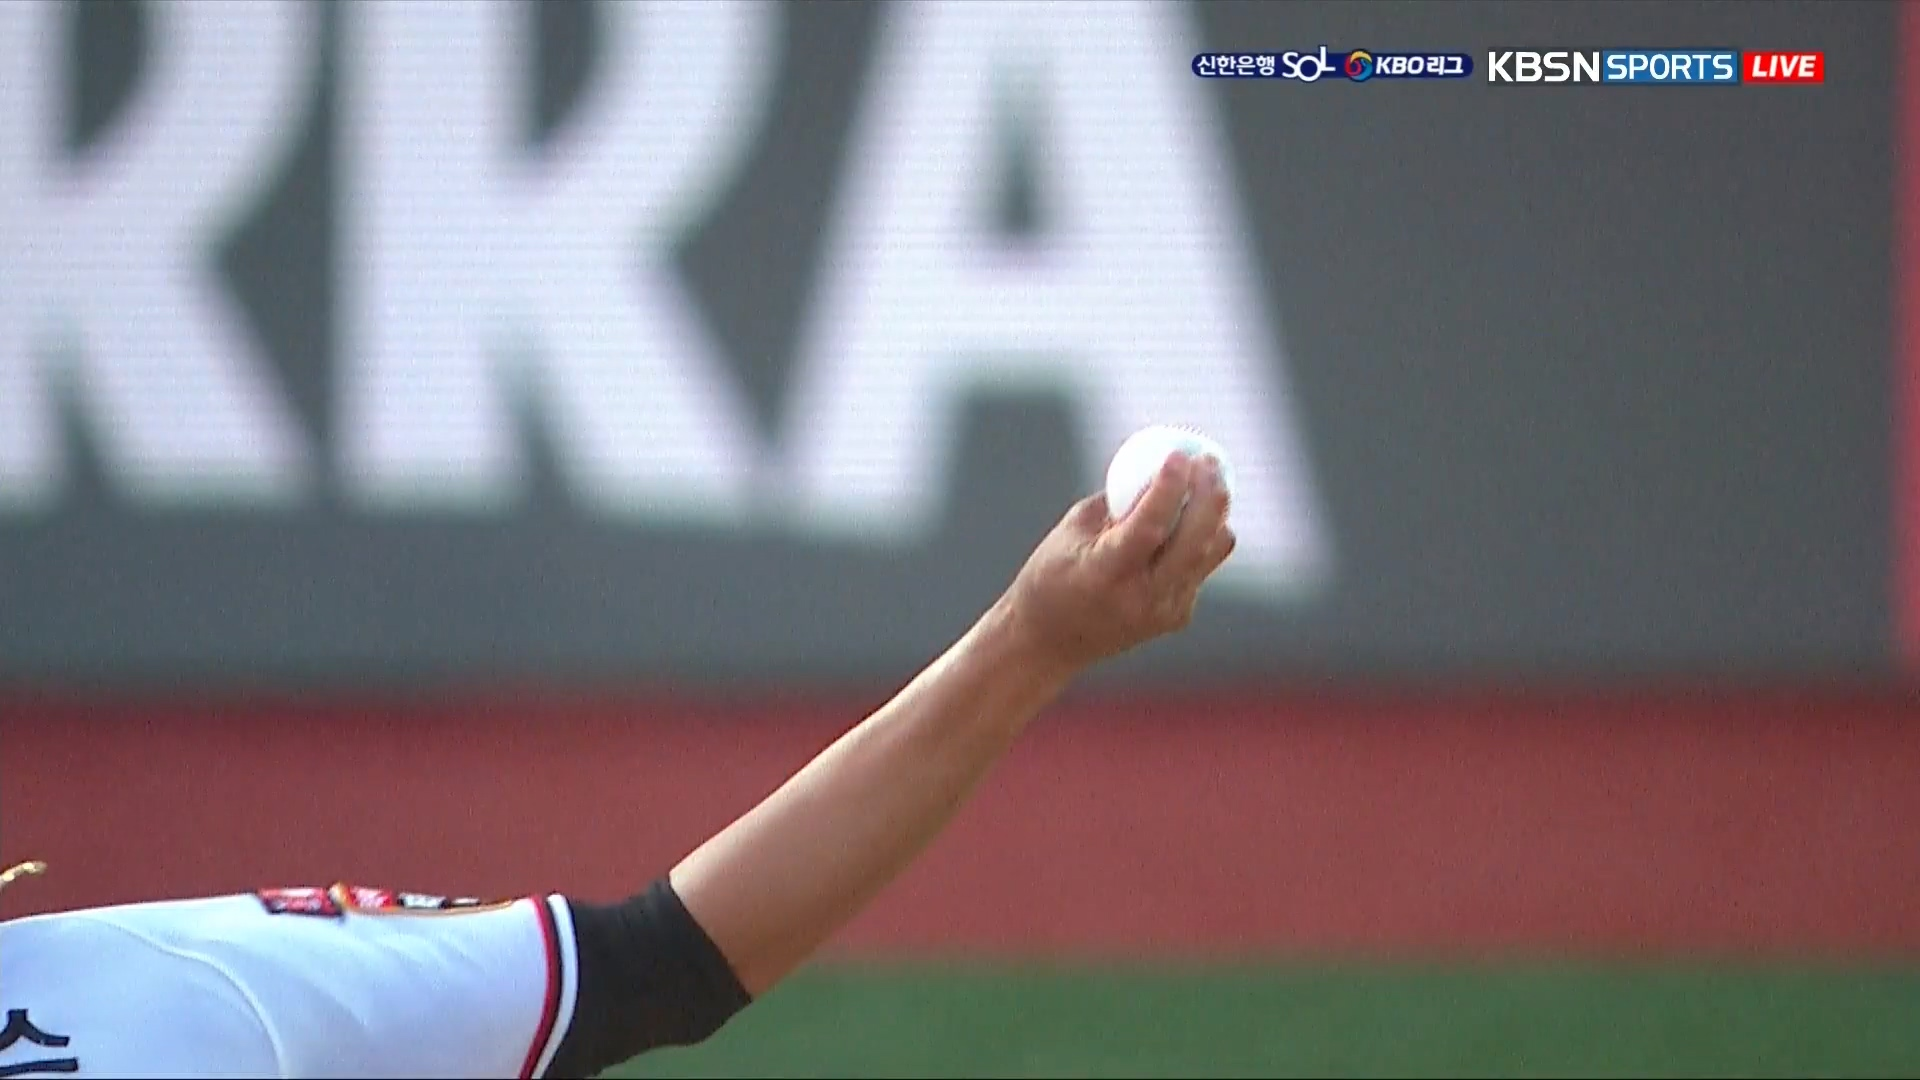zoomin_hand: (669, 421, 1246, 1048)
